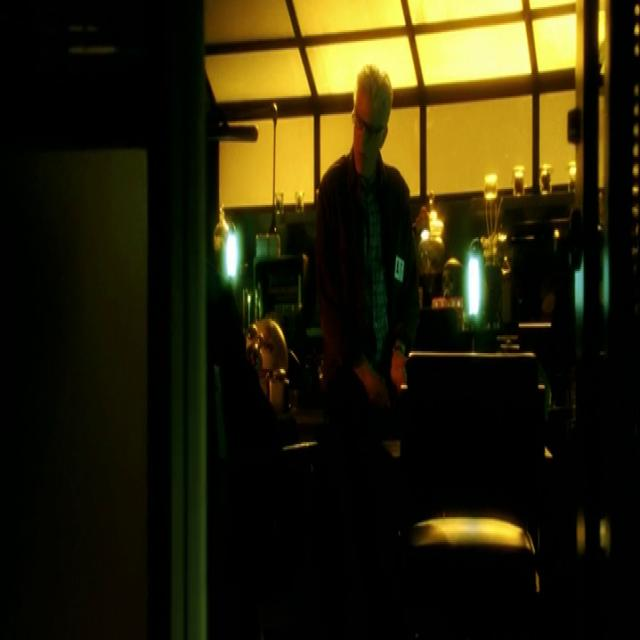People: (336, 67, 436, 566), (191, 77, 274, 536)
Table: (363, 292, 586, 488)
chair: (392, 490, 546, 640)
